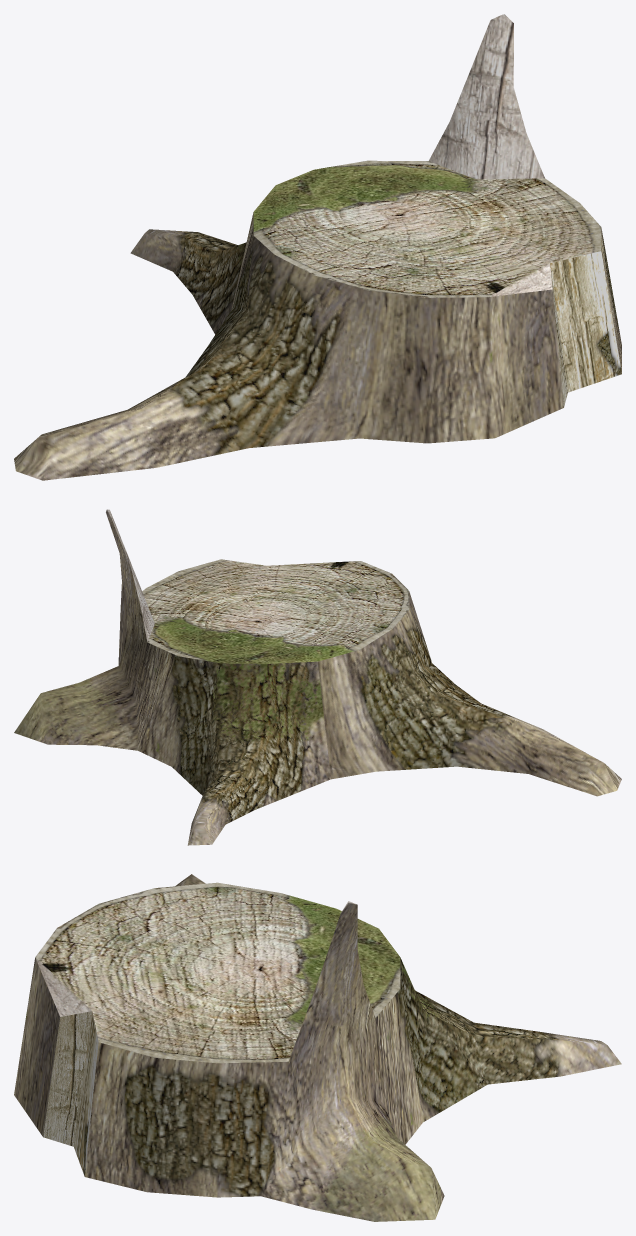
Rendered from tree_stump.FBX.
The picture shows the model from 3 angles, top to bottom: view 1: azimuth 30°, elevation 25°; view 2: azimuth 150°, elevation 25°; view 3: azimuth 270°, elevation 25°; orthographic projection. The views are drawn at different scales.
Visible parts, largest first — view 1: stump; view 2: stump; view 3: stump.
Part boxes in pixels (bbox=[...]): stump: bbox=[14, 14, 621, 480]; stump: bbox=[14, 509, 621, 845]; stump: bbox=[14, 874, 621, 1221].
Size of what is drawn, in the model's own units: 258 by 103 by 202.
